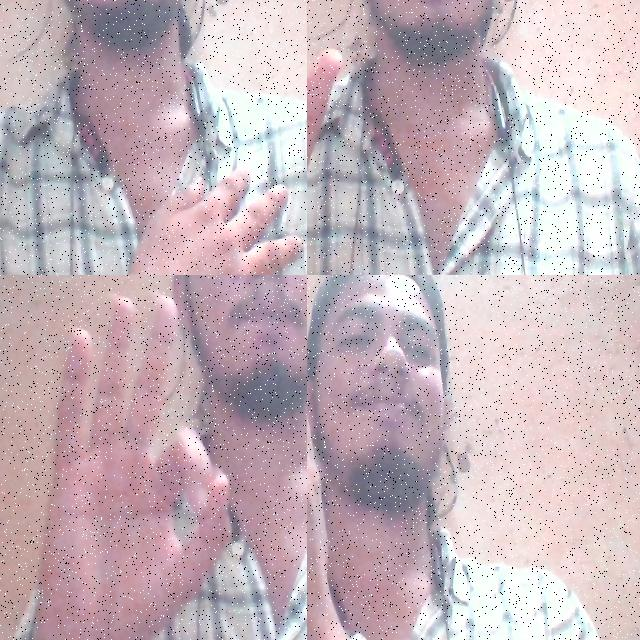I love u: (62, 167, 307, 275)
Please: (28, 284, 241, 640)
Thank You: (307, 275, 361, 640)
